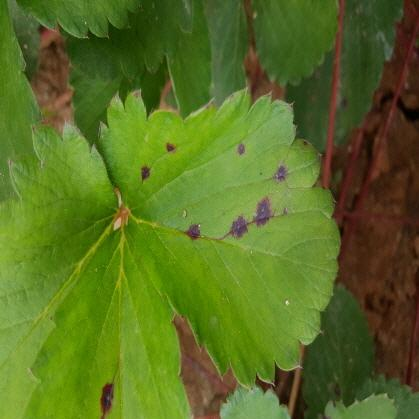Leaf Spot: (96, 86, 340, 390), (21, 214, 194, 418), (284, 0, 405, 152), (298, 280, 375, 418)
